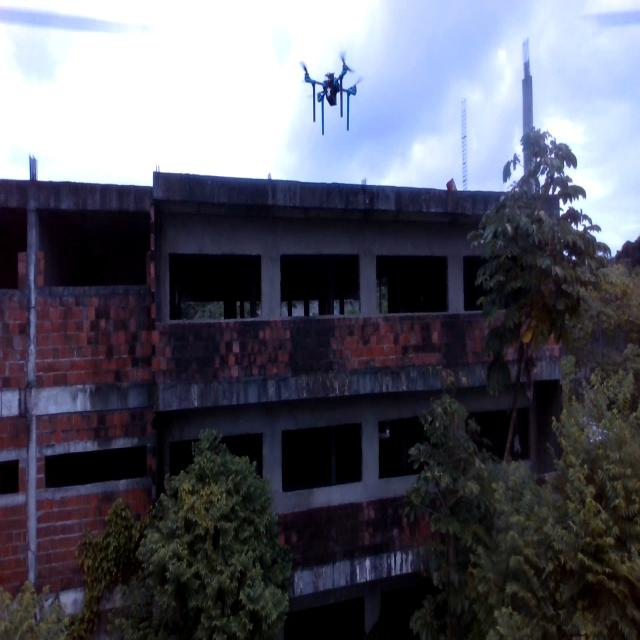-uav-: (281, 19, 378, 159)
